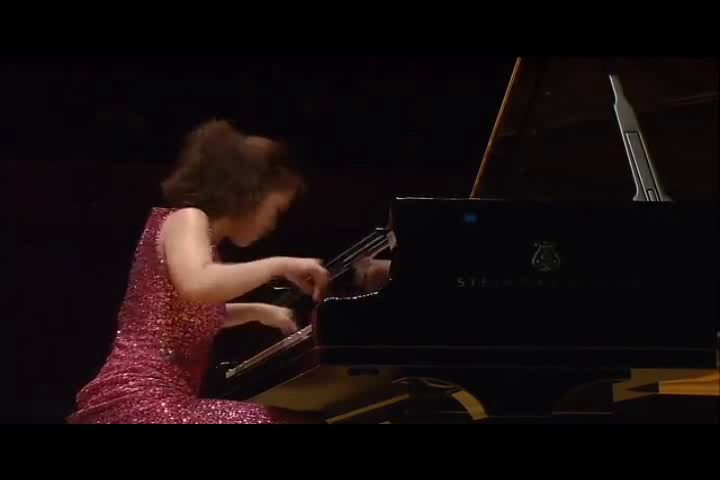keyboard: (217, 313, 329, 380)
